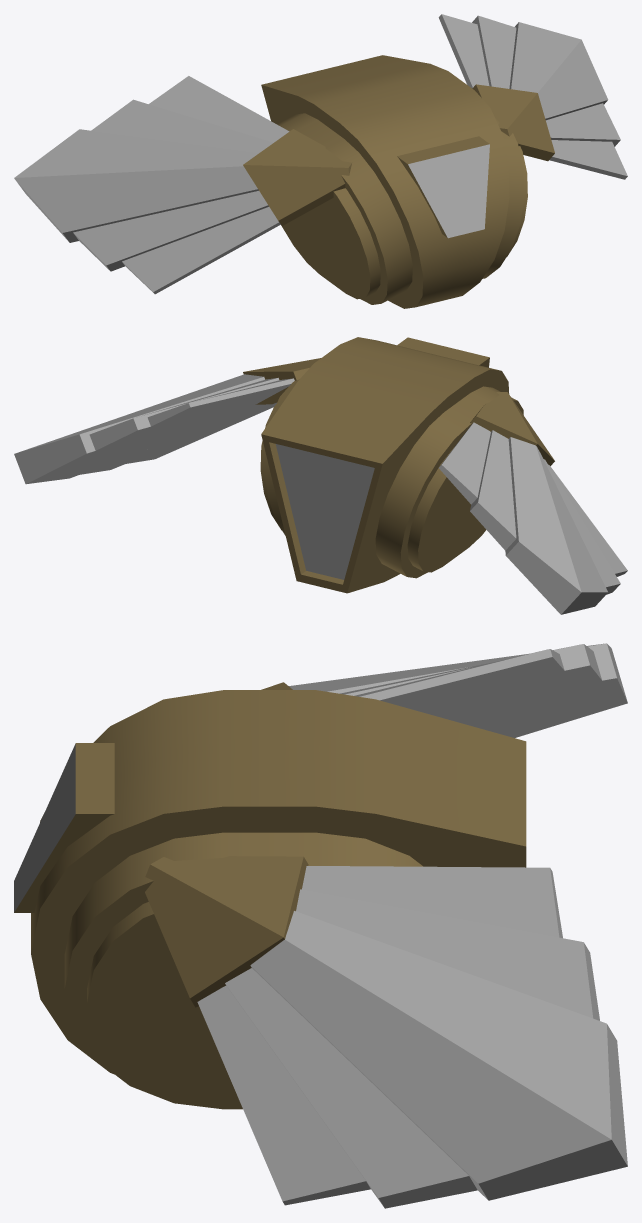
File: CH_Ship_Snitch_Wide_Test.fbx
3 views of the same model, one above another, from view 1: azimuth 30°, elevation 25°; view 2: azimuth 150°, elevation 25°; view 3: azimuth 270°, elevation 25° (orthographic). The views are drawn at different scales.
Visible parts, largest first — view 1: CH_Ship_Snitch_Wide_Test; view 2: CH_Ship_Snitch_Wide_Test; view 3: CH_Ship_Snitch_Wide_Test.
Part boxes in pixels (box(x1,y1,x2,y2)): CH_Ship_Snitch_Wide_Test: box(14, 14, 627, 308); CH_Ship_Snitch_Wide_Test: box(14, 337, 627, 614); CH_Ship_Snitch_Wide_Test: box(14, 643, 627, 1208).
Size of the model in its own units: 202 by 64.48 by 107.
